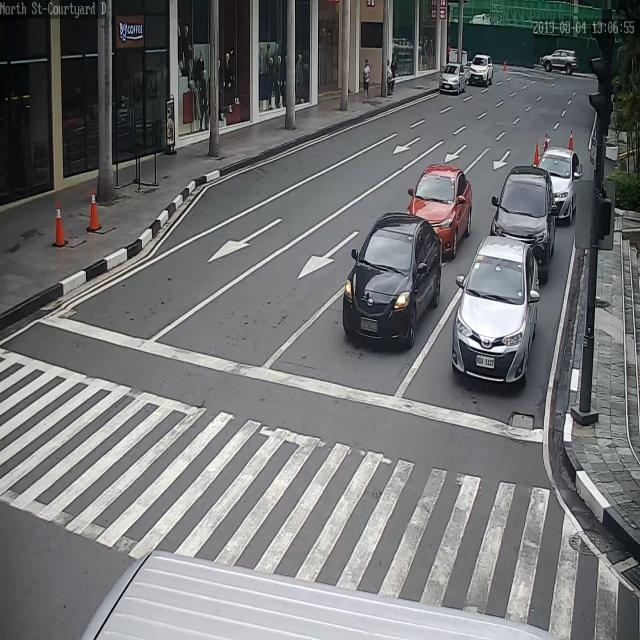car: (343, 212, 444, 347), (455, 236, 540, 384), (491, 167, 557, 282), (406, 165, 472, 257), (536, 148, 584, 216), (440, 63, 469, 93), (540, 51, 578, 73), (468, 58, 495, 87)
